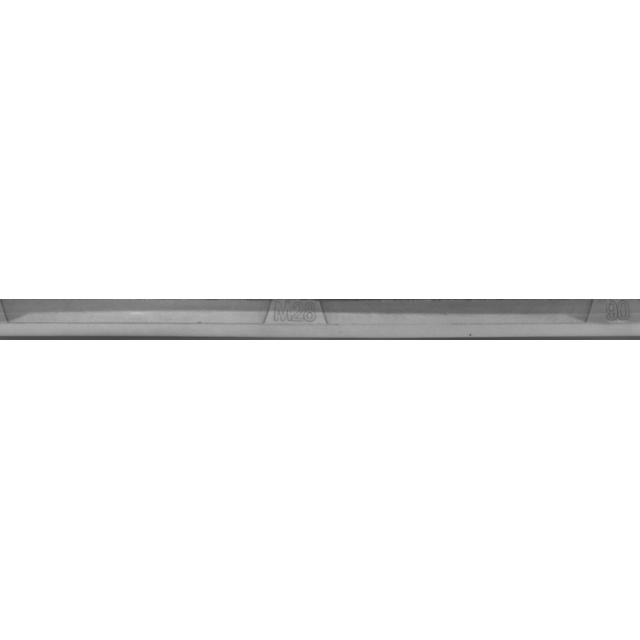mohao: (201, 270, 401, 370)
xuehao: (518, 270, 640, 370)
